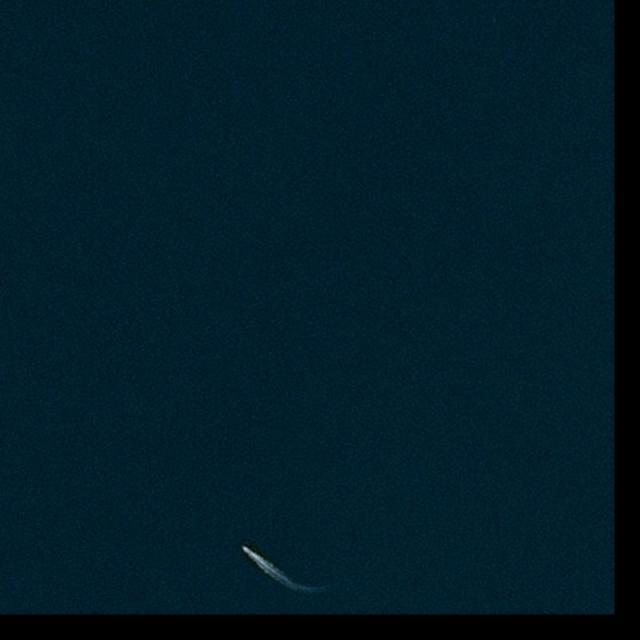ship: (241, 545, 247, 551)
